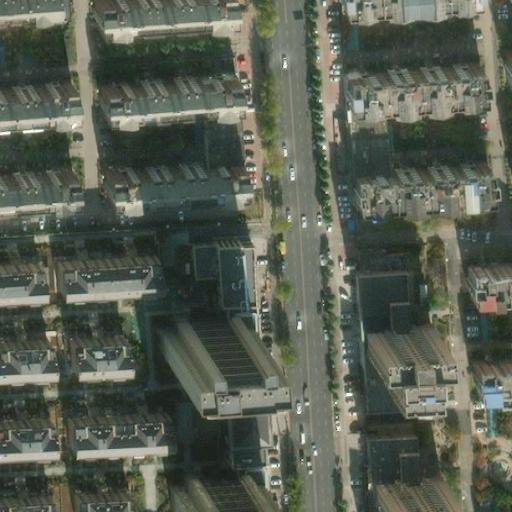building: (343, 157, 481, 209), (338, 55, 480, 104), (347, 262, 396, 398), (90, 71, 230, 110), (97, 161, 232, 198), (219, 343, 256, 456), (359, 325, 429, 384), (50, 245, 149, 286), (363, 429, 409, 512), (173, 473, 265, 512), (156, 309, 249, 347), (63, 406, 155, 442), (86, 0, 224, 23), (208, 243, 244, 310), (340, 102, 377, 167), (371, 478, 441, 512), (60, 327, 119, 365), (0, 79, 64, 114), (0, 164, 64, 196), (198, 103, 231, 163), (463, 260, 512, 297), (0, 412, 47, 450), (469, 348, 512, 386), (66, 484, 124, 512), (0, 334, 45, 369), (0, 254, 31, 288), (185, 240, 210, 278)
